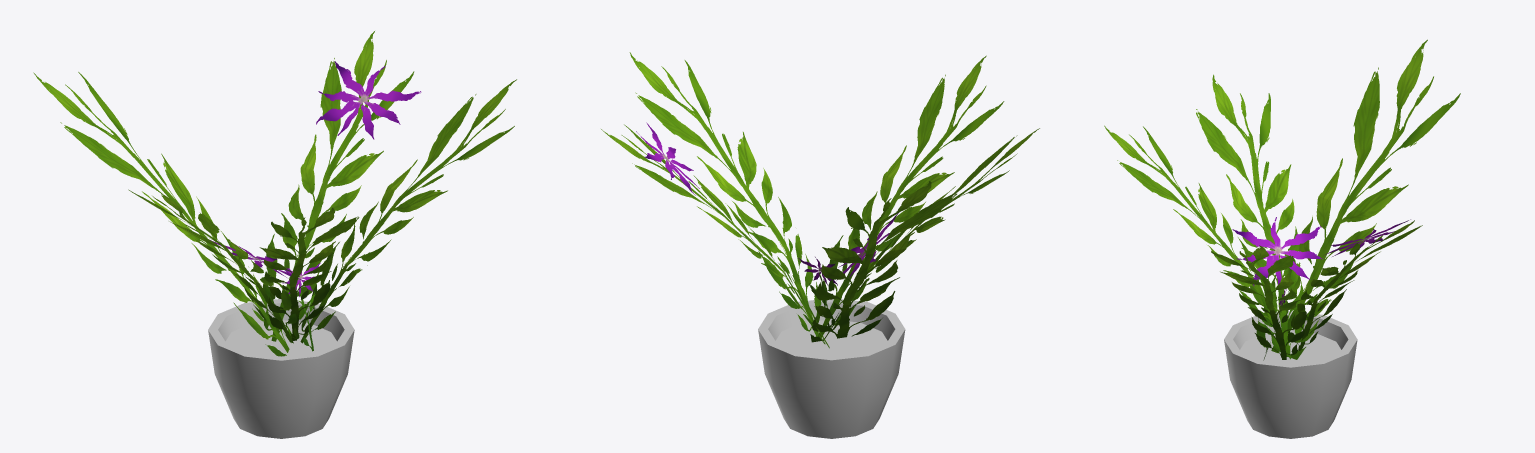
File: Plant.fbx
3 renders of one model, left to right at view 1: azimuth 30°, elevation 25°; view 2: azimuth 150°, elevation 25°; view 3: azimuth 270°, elevation 25°, orthographic. The views are drawn at different scales.
Parts seen in each view (by area): view 1: Cylinder; view 2: Cylinder; view 3: Cylinder.
Part boxes in pixels (x1,y1,x2,y2): Cylinder: (33, 31, 516, 438); Cylinder: (601, 52, 1039, 438); Cylinder: (1104, 39, 1460, 438).
Size of the model in its own units: 773 by 556 by 719.
